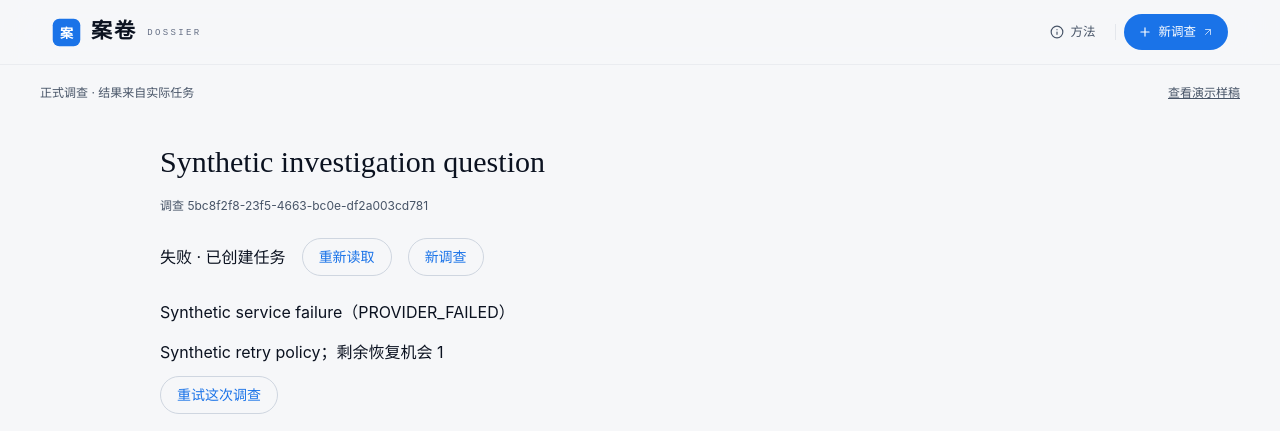
live workspace controller and report with synthetic HTTP only › reads after 409, preserves the rejected operation error and never replays POST
Click the button "重试这次调查" at (219, 395), box [160,376,278,414]
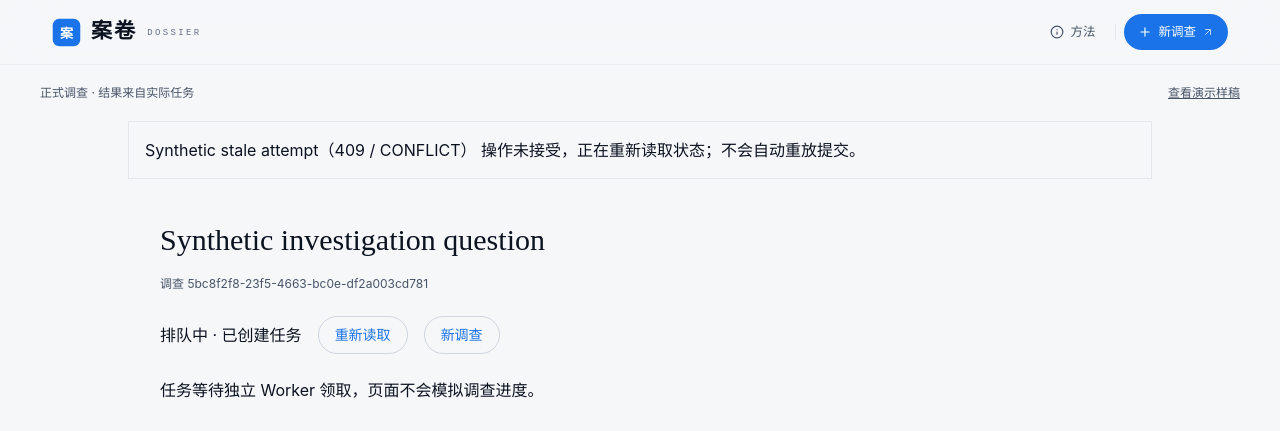
Now the text "操作未接受" is shown, box [145,140,865,160]
Now the text "409 / CONFLICT" is shown, box [145,140,865,160]
Now the text "排队中" is shown, box [160,325,302,345]
